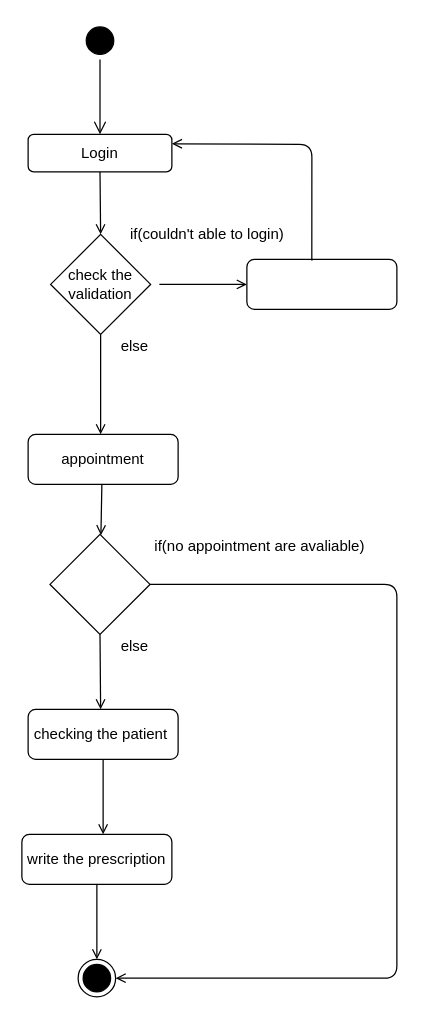
This 429x1019 diagram has some shape labels left out. Each missing label, with the box of its shape:
check the appointment: (49, 533, 150, 634)
Retrying to loging: (246, 258, 397, 309)
